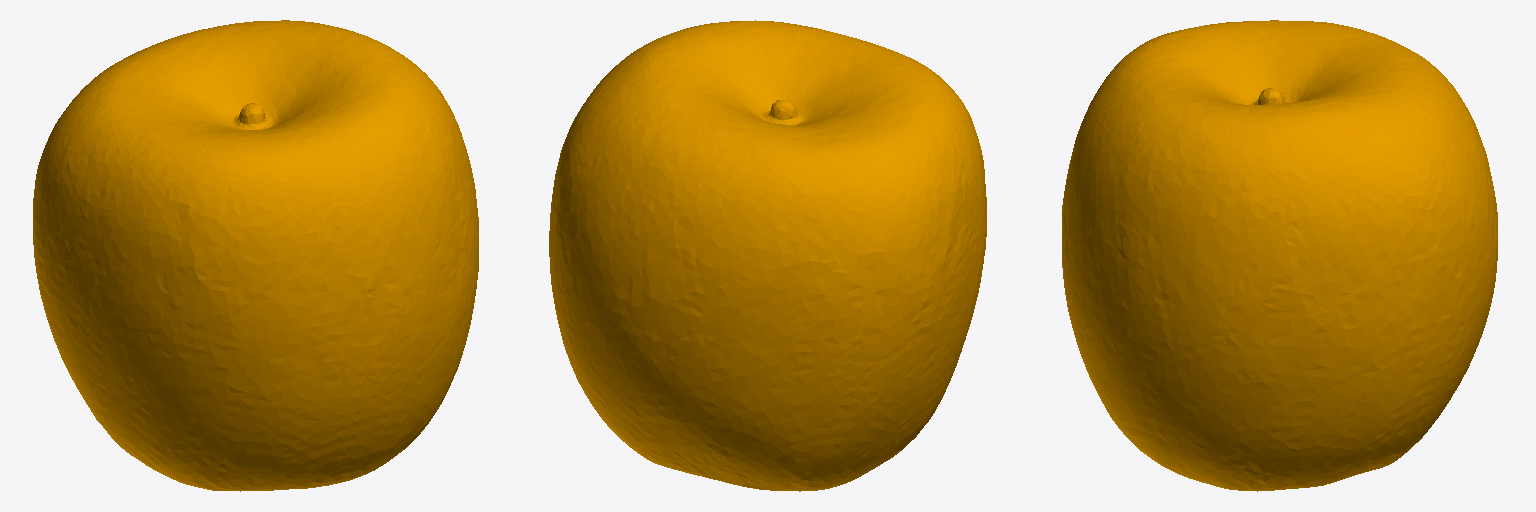
The robot description file, URDF, robot "root":
<robot name="root">
  <link name="link_original">
    <visual>
      <origin xyz="0 0 0" rpy="0 0 0"/>
      <geometry>
        <mesh filename="textured.obj" scale="1.0000E+00 1.0000E+00 1.0000E+00"/>
      </geometry>
    </visual>
    <inertial>
      <origin xyz="0 0 0" rpy="0 0 0"/>
      <mass value="2.4660E-01"/>
      <inertia ixx="1.51E-04" ixy="2.47E-07" ixz="4.20E-07" iyy="1.53E-04" iyz="-5.20E-07" izz="1.53E-04"/>
    </inertial>
    <collision>
      <origin xyz="0 0 0" rpy="0 0 0"/>
      <geometry>
        <mesh filename="coacd_allinone.obj" scale="1.0000E+00 1.0000E+00 1.0000E+00"/>
      </geometry>
    </collision>
  </link>
</robot>

--- What the picture shows (computed from the rendered views, not written in the file) ---
The picture shows the robot from 3 angles, left to right: view 1: azimuth 30°, elevation 25°; view 2: azimuth 150°, elevation 25°; view 3: azimuth 270°, elevation 25°; orthographic projection.
Model root with 1 links and 0 joints (none), rooted at link_original, posed every joint at zero.
Visible links, largest first — view 1: link_original; view 2: link_original; view 3: link_original.
Link boxes in pixels (x1=…): link_original: x1=33, y1=20, x2=478, y2=491; link_original: x1=549, y1=20, x2=986, y2=491; link_original: x1=1062, y1=20, x2=1497, y2=491.
Bounding box of the posed robot: 0.0754 × 0.0749 × 0.0719 m (x, y, z).
1 mesh visuals loaded from 1 distinct referenced files (1 OBJ).
